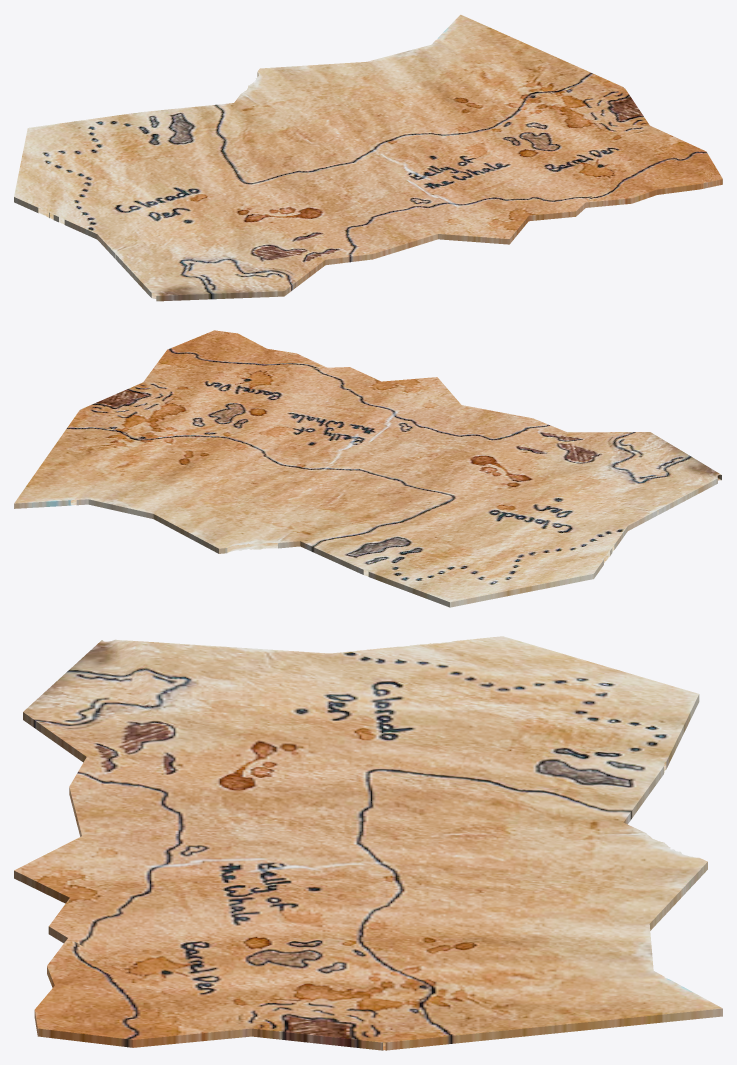
Rendered from Piece3.fbx.
3 views of the same model, one above another, from view 1: azimuth 30°, elevation 25°; view 2: azimuth 150°, elevation 25°; view 3: azimuth 270°, elevation 25° (orthographic). The views are drawn at different scales.
Parts seen in each view (by area): view 1: map_puzzle1; view 2: map_puzzle1; view 3: map_puzzle1.
Part boxes in pixels (x1,y1,x2,y2): map_puzzle1: (14, 14, 722, 301); map_puzzle1: (14, 330, 721, 607); map_puzzle1: (14, 636, 722, 1050).
Size of the model in its own units: 2.49 by 0.03 by 1.83.
